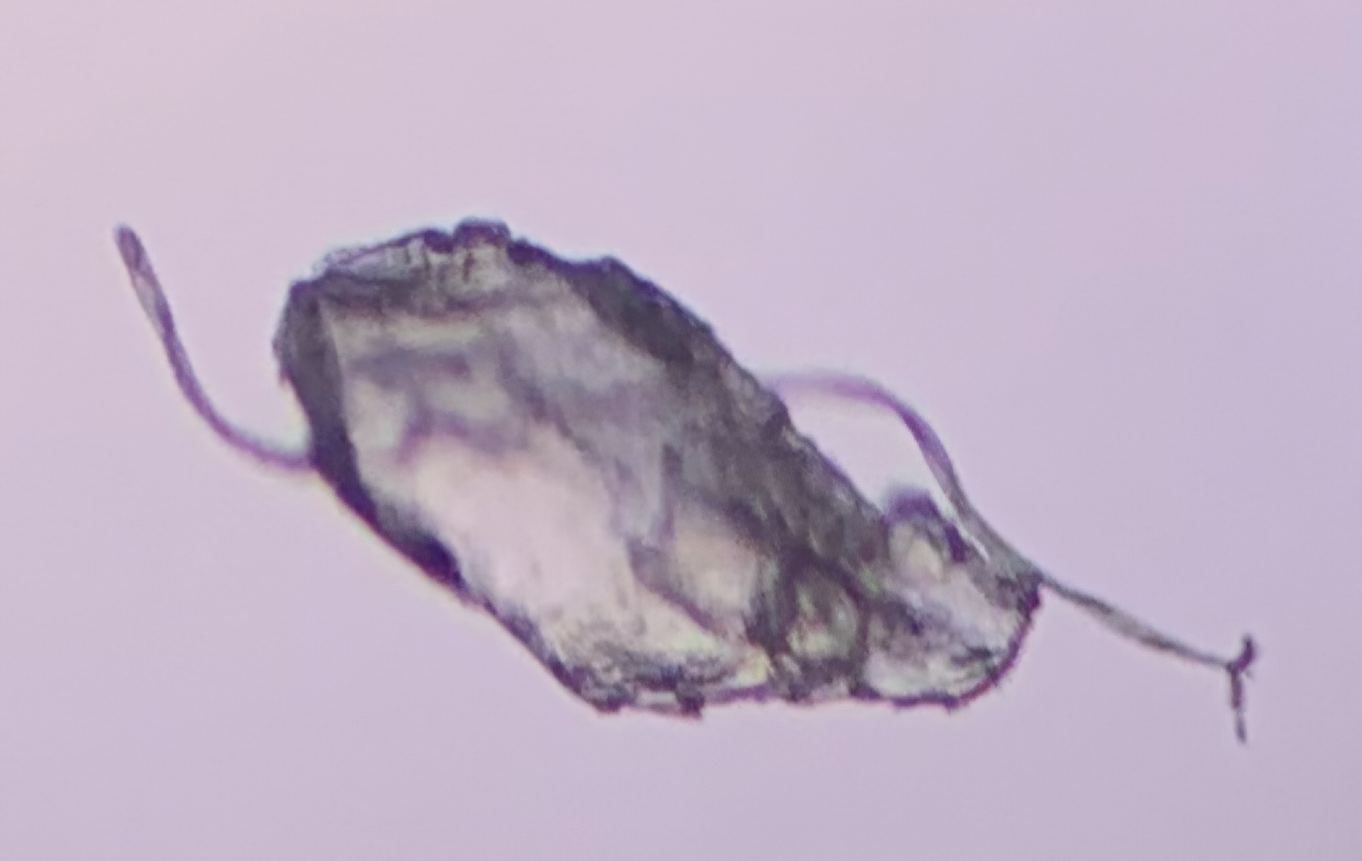microplastic: (111, 217, 1259, 755)
